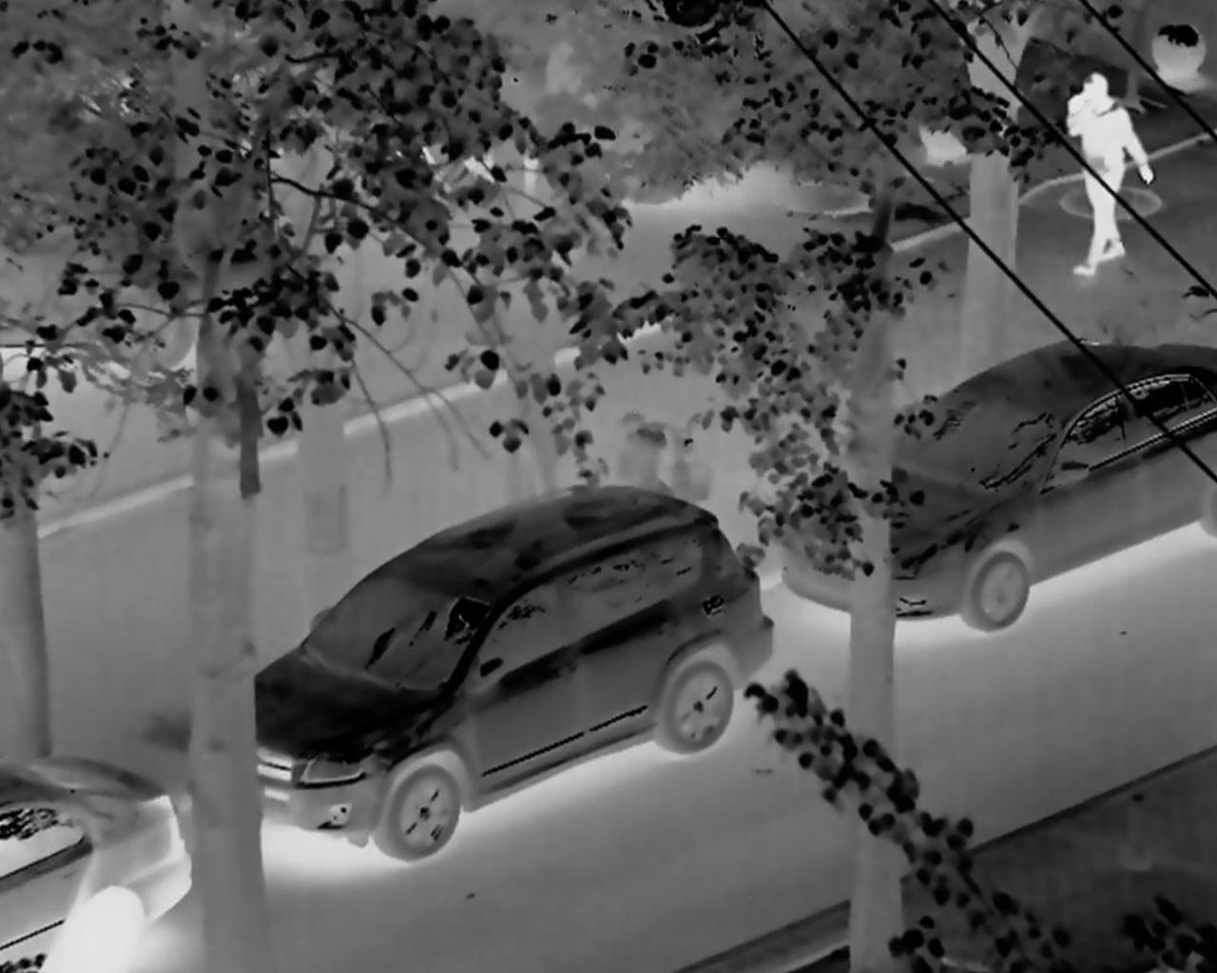person: (1064, 71, 1153, 277)
